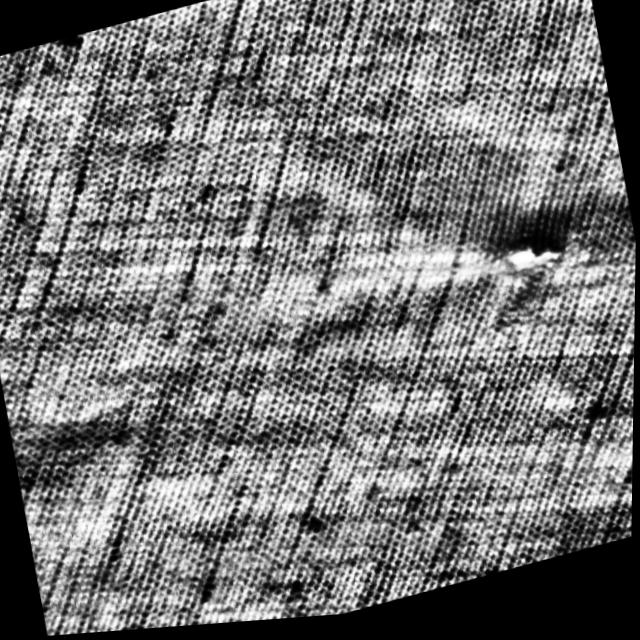Hole: (476, 226, 574, 301)
